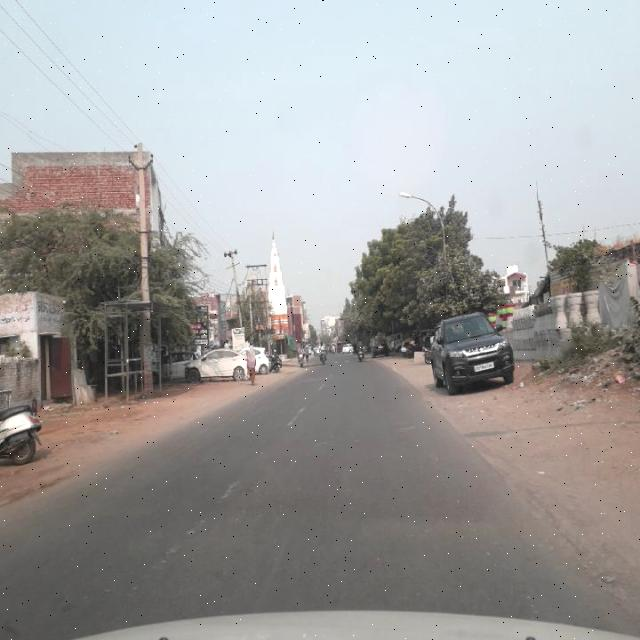D44: (143, 473, 248, 584), (285, 394, 315, 436)
